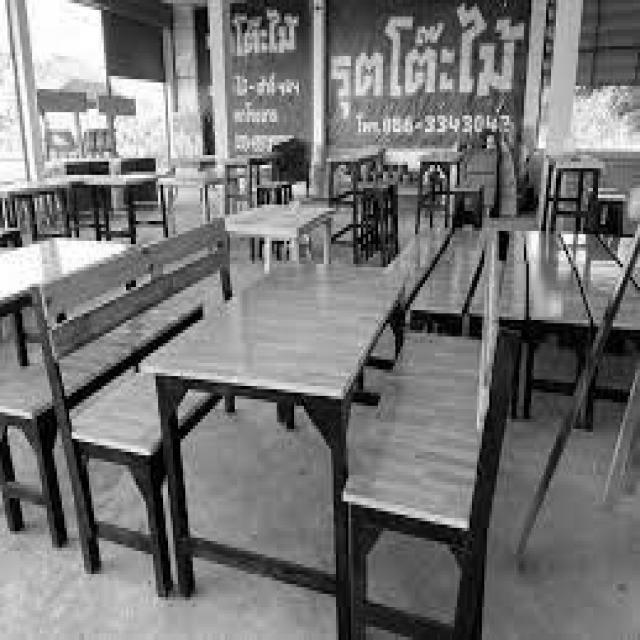table: (141, 234, 410, 441)
